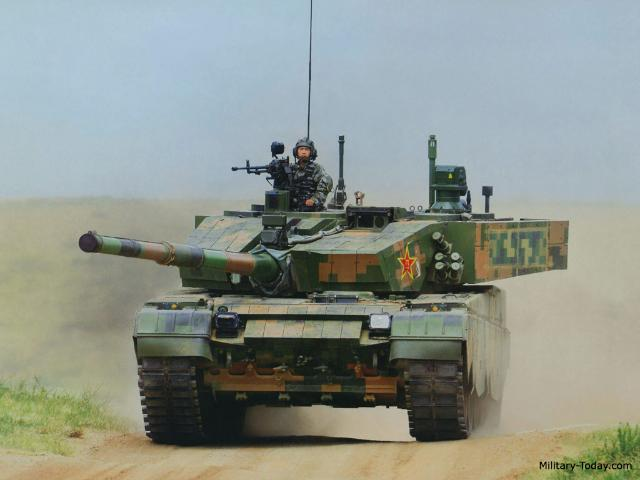other: (282, 130, 330, 206)
tank: (136, 134, 506, 439)
